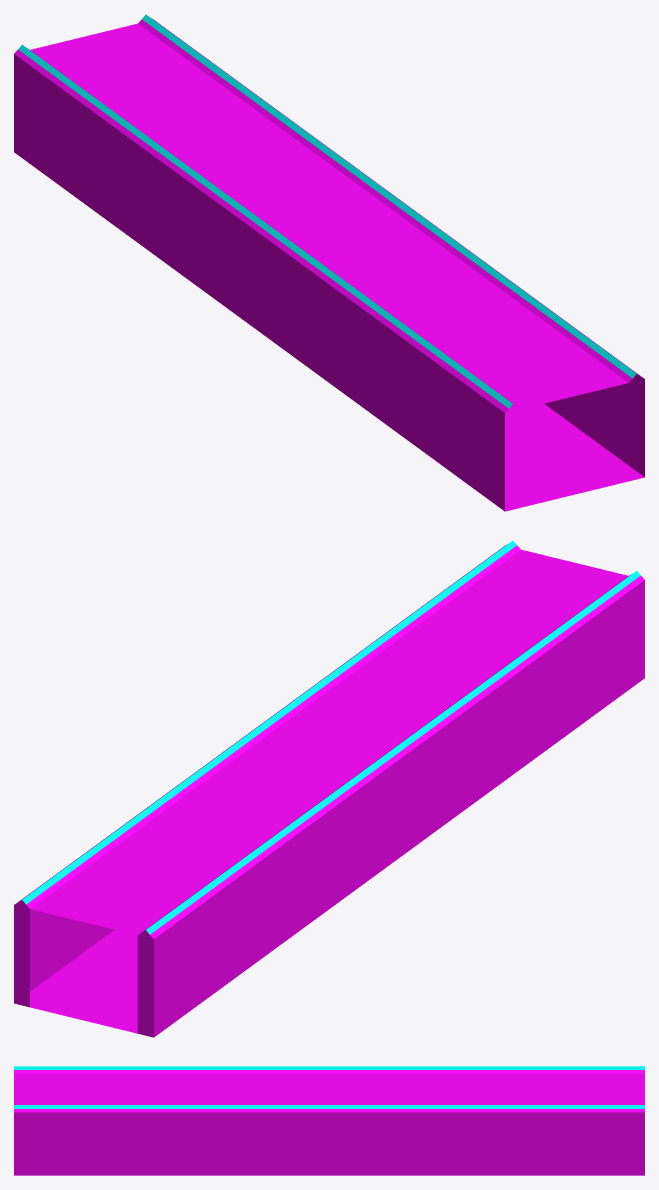
Rendered from bridge.fbx.
3 renders of one model, top to bottom at view 1: azimuth 30°, elevation 25°; view 2: azimuth 150°, elevation 25°; view 3: azimuth 270°, elevation 25°, orthographic. The views are drawn at different scales.
Parts seen in each view (by area): view 1: kopru; view 2: kopru; view 3: kopru.
Part boxes in pixels (x1,y1,x2,y2): kopru: (14,14,644,511); kopru: (14,540,644,1037); kopru: (14,1066,644,1175).
Size of the model in its own units: 298 by 215 by 1808.
